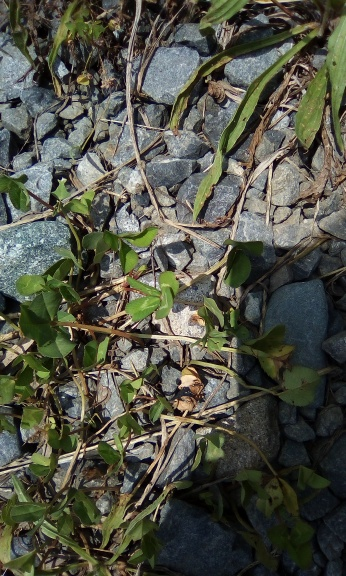4leaf: (125, 270, 181, 321)
